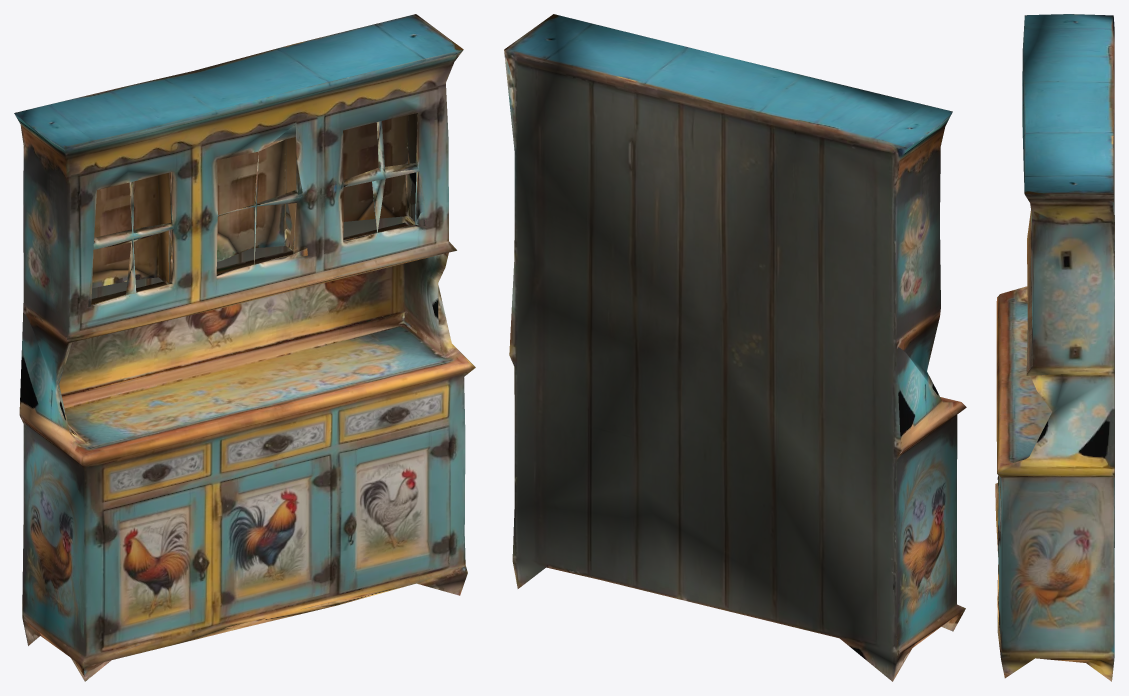
Rendered from house-cabin.glb.
3 renders of one model, left to right at view 1: azimuth 30°, elevation 25°; view 2: azimuth 150°, elevation 25°; view 3: azimuth 270°, elevation 25°, orthographic. The views are drawn at different scales.
Visible parts, largest first — view 1: Mesh1.0; view 2: Mesh1.0; view 3: Mesh1.0.
Part boxes in pixels (x1,y1,x2,y2): Mesh1.0: (14,14,475,681); Mesh1.0: (504,14,966,681); Mesh1.0: (995,14,1114,681).
Size of the model in its own units: 1.51 by 1.92 by 0.4229.
Materials: 1 (1 with a texture image).
